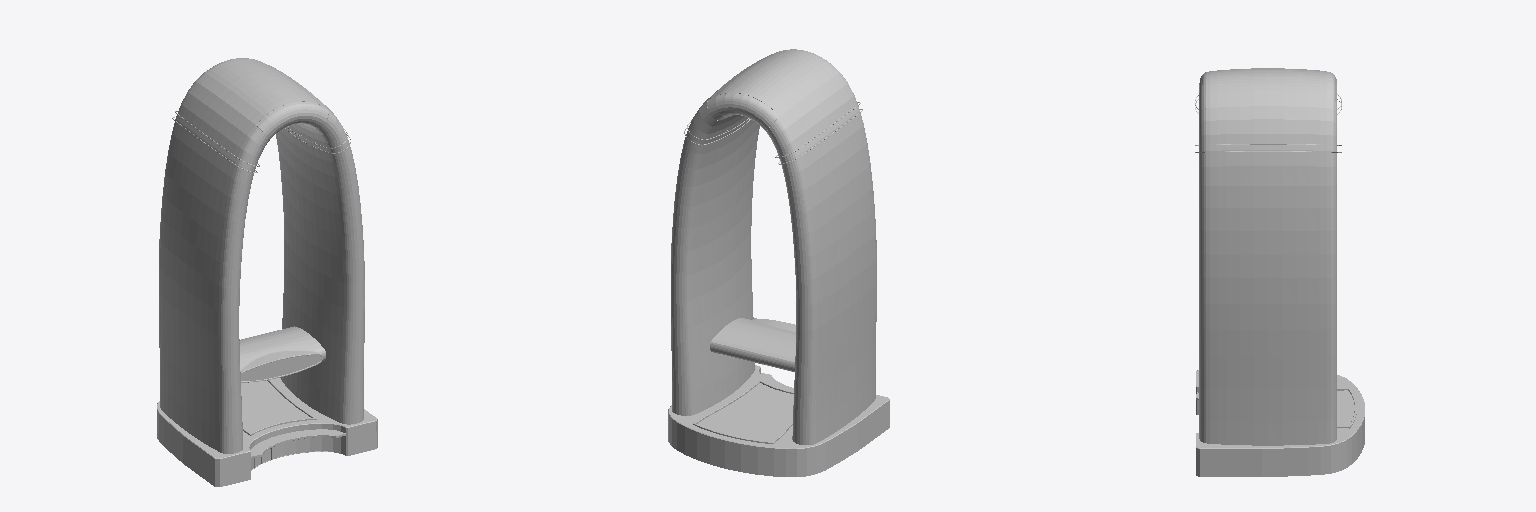
File: train-station.obj
3 renders of one model, left to right at view 1: azimuth 30°, elevation 25°; view 2: azimuth 150°, elevation 25°; view 3: azimuth 270°, elevation 25°, orthographic.
Parts seen in each view (by area): view 1: Curvy_Skyscrapper_, Curvy_Skyscrapper_.003, Curvy_Skyscrapper_.001, Curvy_Skyscrapper_.005, Curvy_Skyscrapper_.004; view 2: Curvy_Skyscrapper_, Curvy_Skyscrapper_.003, Curvy_Skyscrapper_.001; view 3: Curvy_Skyscrapper_, Curvy_Skyscrapper_.003.
Boxes of the visible parts, <box> form: Curvy_Skyscrapper_: <box>159,58,364,453</box>; Curvy_Skyscrapper_.003: <box>157,378,377,486</box>; Curvy_Skyscrapper_.001: <box>240,326,325,382</box>; Curvy_Skyscrapper_.005: <box>251,438,331,469</box>; Curvy_Skyscrapper_.004: <box>251,429,345,458</box>; Curvy_Skyscrapper_: <box>671,49,876,444</box>; Curvy_Skyscrapper_.003: <box>668,365,889,476</box>; Curvy_Skyscrapper_.001: <box>710,318,795,371</box>; Curvy_Skyscrapper_: <box>1199,68,1336,445</box>; Curvy_Skyscrapper_.003: <box>1196,370,1364,476</box>.
Bounding box in the file's own units: 1.98 × 4.21 × 1.8.